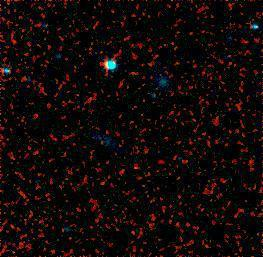star: (123, 152, 153, 182)
